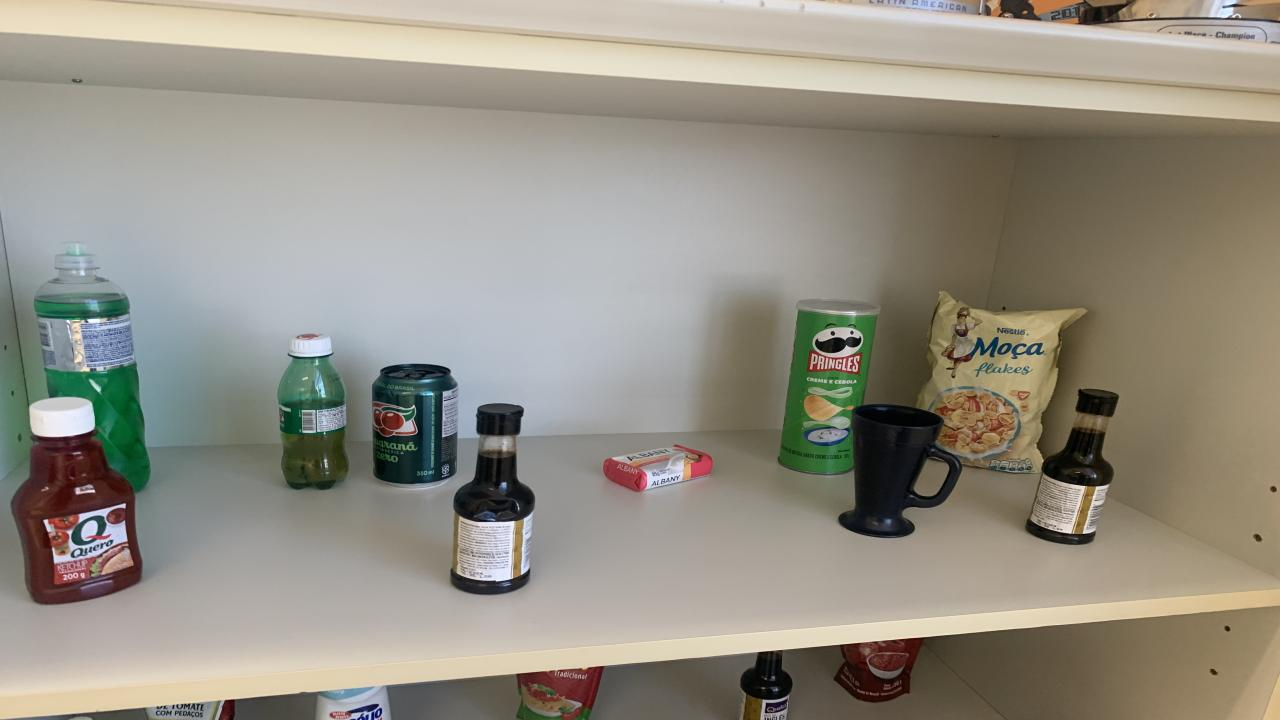Cleaner-Cleanup_Items: (315, 686, 390, 720)
Detergent-Cleanup_Items: (35, 242, 150, 488)
English_Sauce-Pantry_Items: (450, 405, 535, 594), (1025, 390, 1118, 544), (738, 651, 792, 720)
Flakes-Snacks: (918, 291, 1085, 472)
Guarana-Drinks: (278, 334, 348, 489)
Guarana_Can-Drinks: (372, 364, 458, 488)
Ketchup-Pantry_Items: (10, 398, 142, 604)
Pringles-Snacks: (778, 298, 880, 474)
Soap-Cleanup_Items: (602, 444, 712, 491)
Tomato_Sauce-Pantry_Items: (835, 638, 922, 703), (518, 668, 602, 720), (145, 699, 235, 720)
